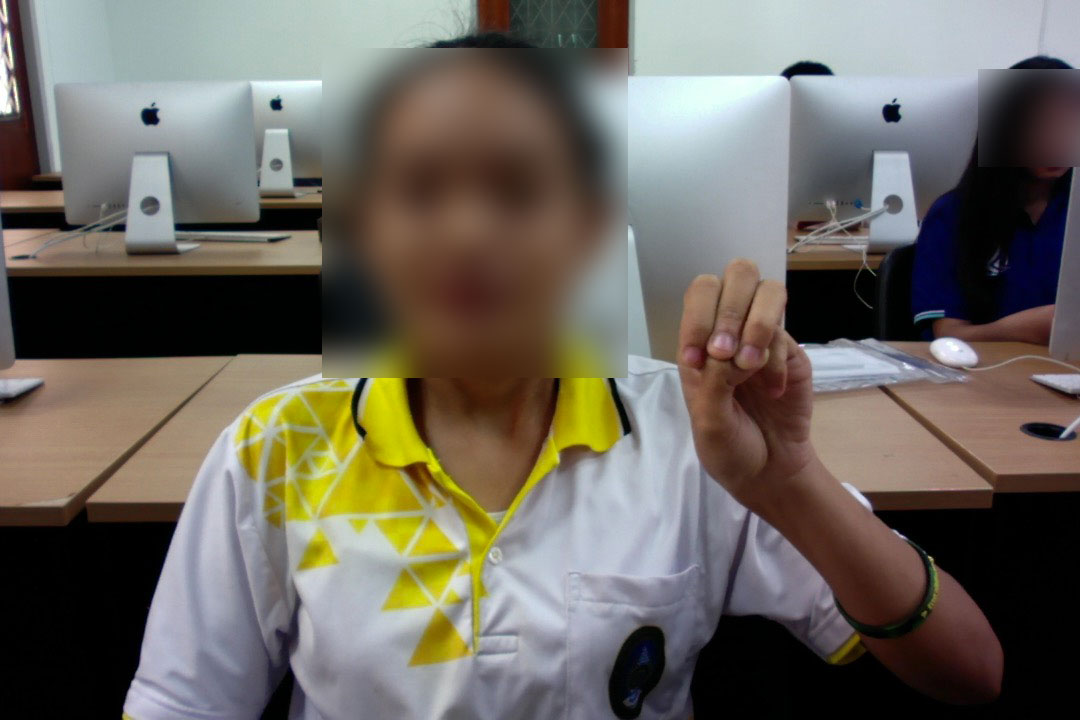mor: (668, 254, 823, 503)
